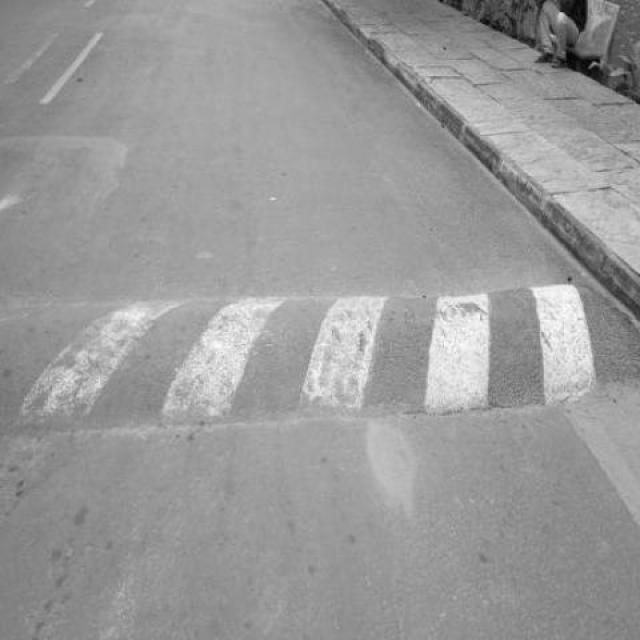Speed Bump: (0, 279, 639, 446)
